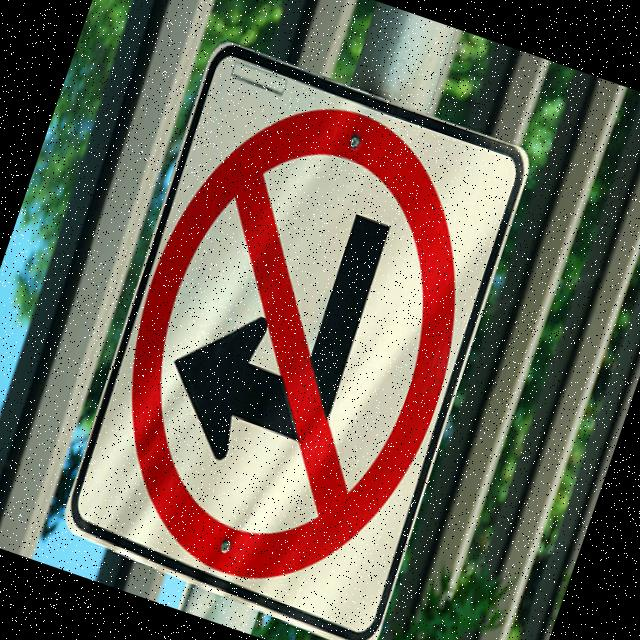do_not_turn_right: (69, 67, 518, 620)
